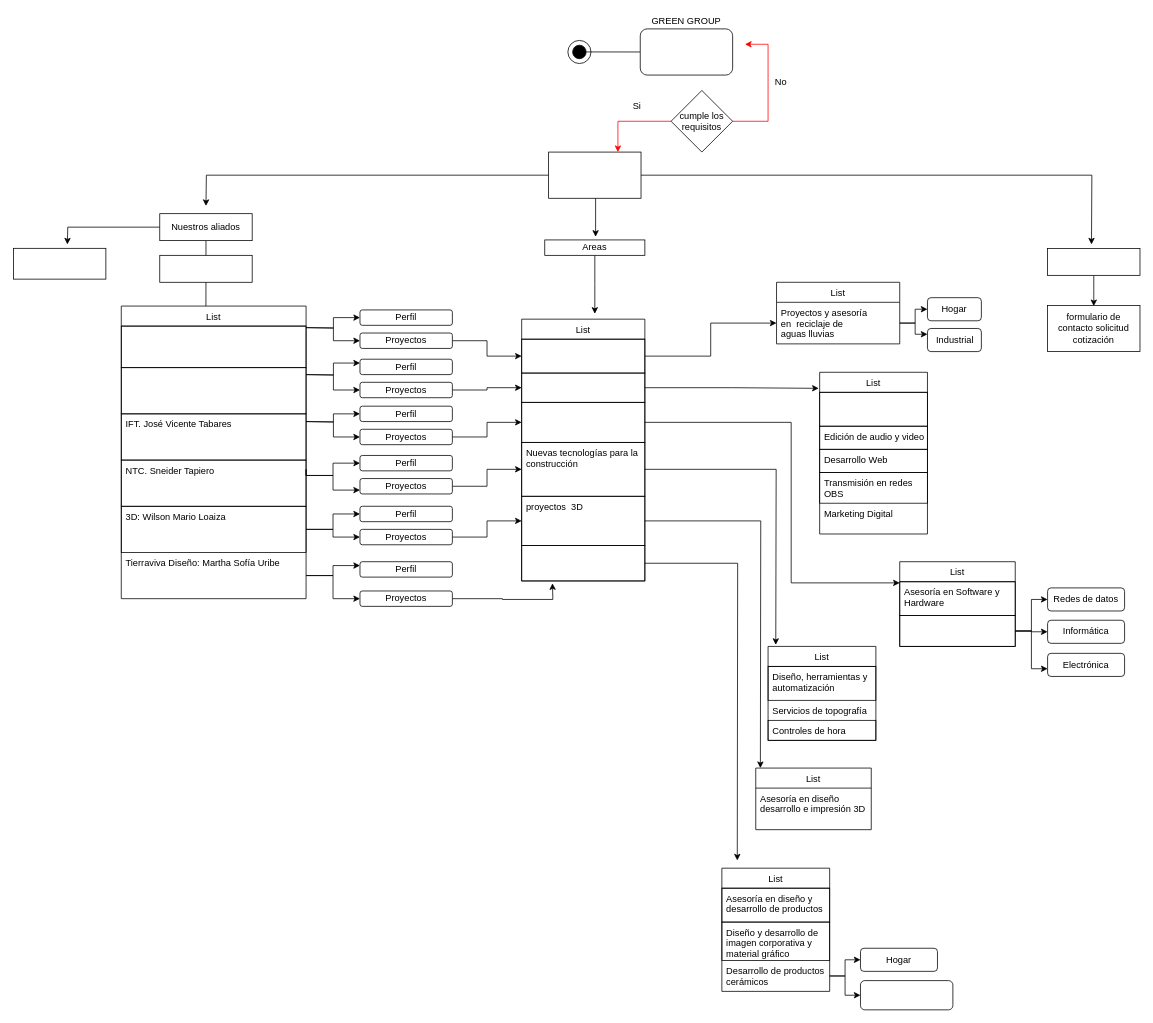
Image size: 1153x1023. Some labels were removed from this diagram. Here are the shapes that lost their labels. From the top down, the centre of each, then its label:
At point (686, 51): "Validación Nombre Contraseña".
At point (594, 174): "Home".
At point (59, 263): "Registrar".
At point (205, 268): "ver uno especifico".
At point (1093, 261): "contactenos".
At point (213, 346): "Industrias PAM: Victor Serna".
At point (583, 355): "Gestión Ambiental".
At point (213, 390): "Fraktal Media: Andrés Mauricio Ramirez".
At point (583, 387): "Producción Audiovisual".
At point (583, 422): "Formación para el trabajo".
At point (873, 409): "Asesoría en Software audiovisual.".
At point (583, 563): "Diseño".
At point (957, 630): "Cursos".
At point (906, 995): "Industria hotelera y gastronómica".
